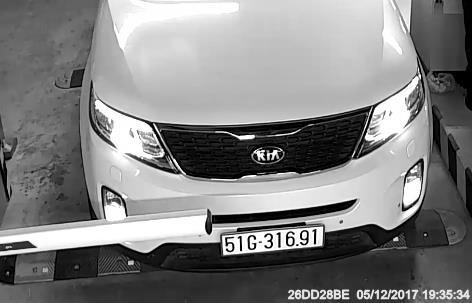License-plate: (214, 224, 334, 259)
